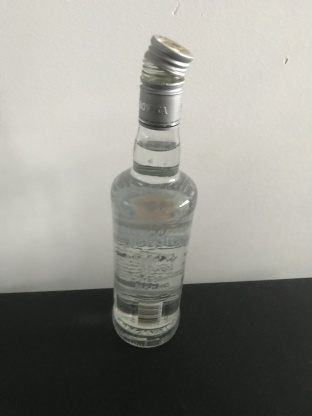nakretka: (136, 32, 194, 131)
